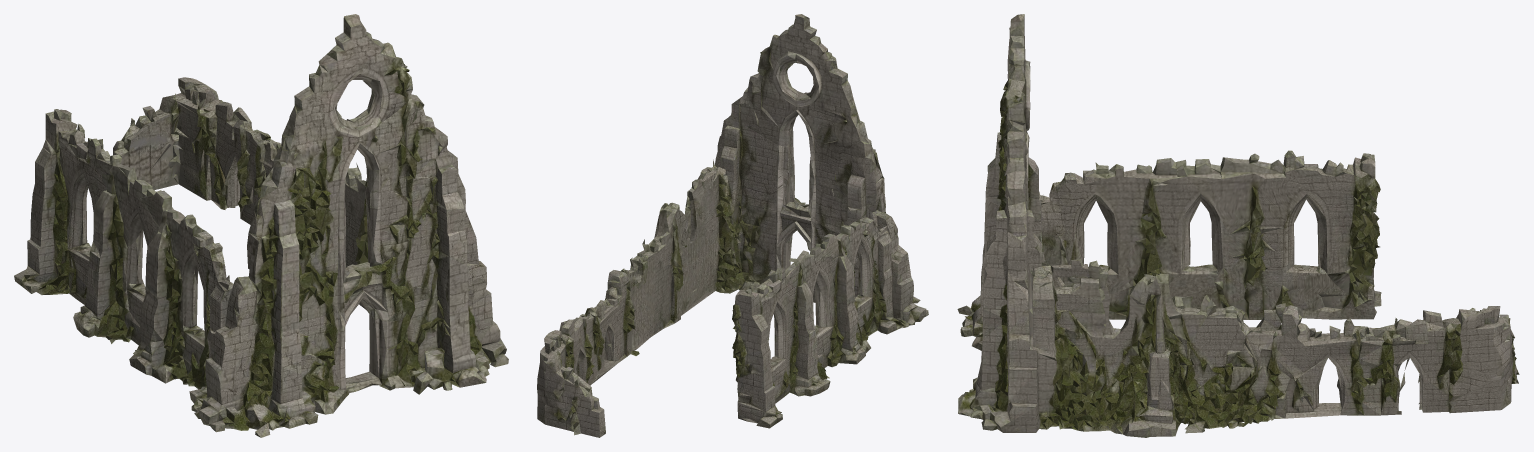
Rendered from poi_abbey.glb.
3 views of the same model, side by side, from view 1: azimuth 30°, elevation 25°; view 2: azimuth 150°, elevation 25°; view 3: azimuth 270°, elevation 25° (orthographic). The views are drawn at different scales.
Visible parts, largest first — view 1: poi_abbey; view 2: poi_abbey; view 3: poi_abbey.
Part boxes in pixels (x1=…): poi_abbey: x1=14, y1=14, x2=508, y2=437; poi_abbey: x1=537, y1=14, x2=928, y2=437; poi_abbey: x1=957, y1=14, x2=1519, y2=437.
Size of the model in its own units: 14.5 by 16.68 by 24.
1 material, 1 textured.
